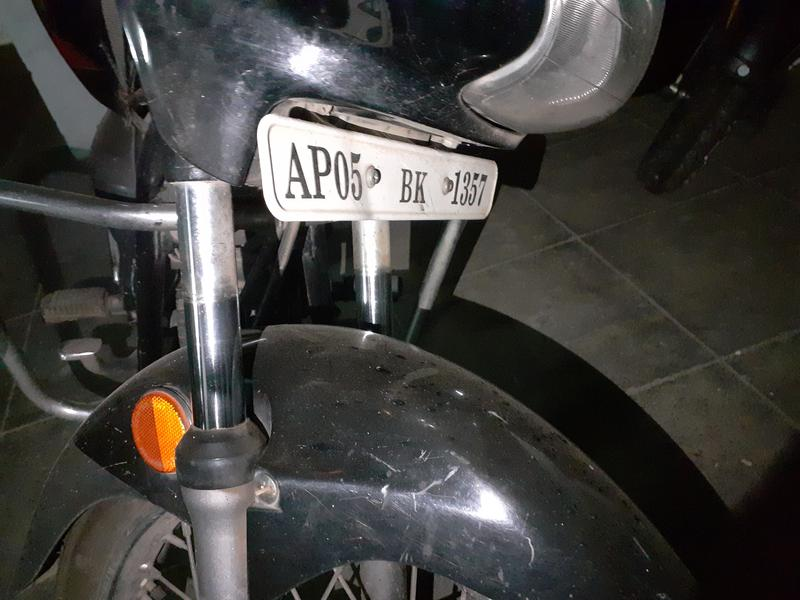numberplate: (248, 118, 527, 248)
